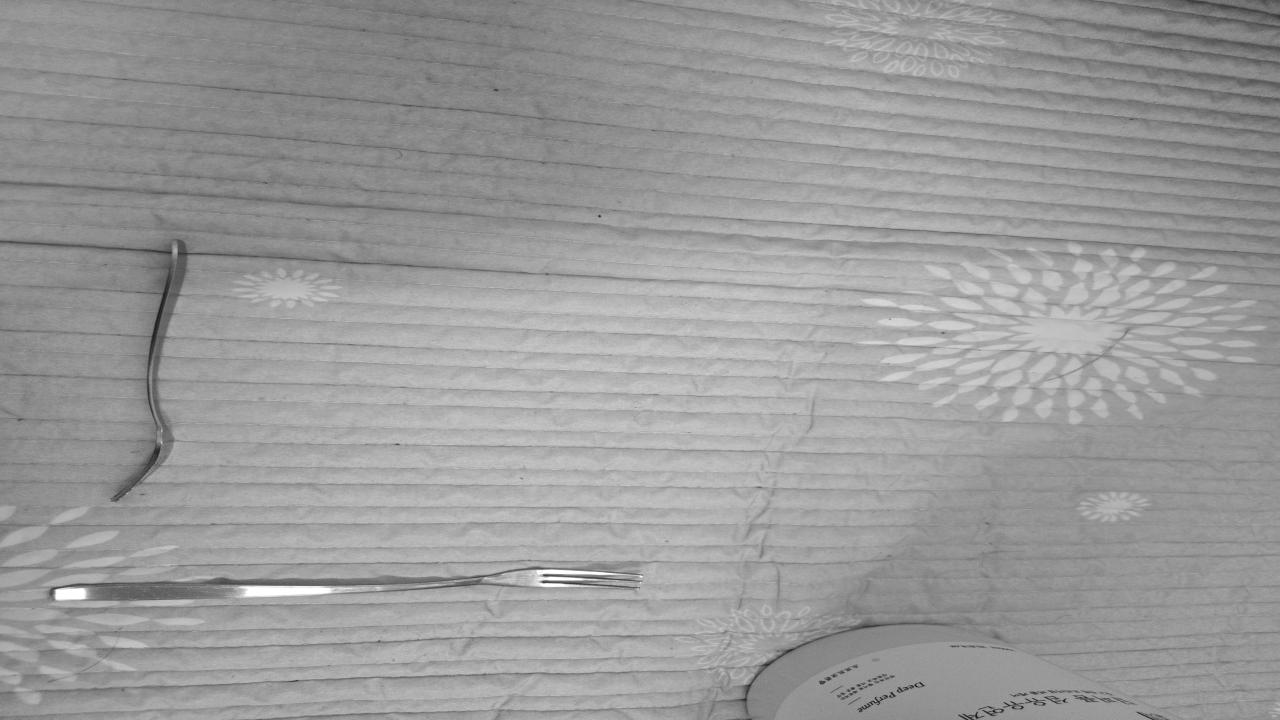fork: (98, 241, 188, 513), (53, 567, 644, 603)
